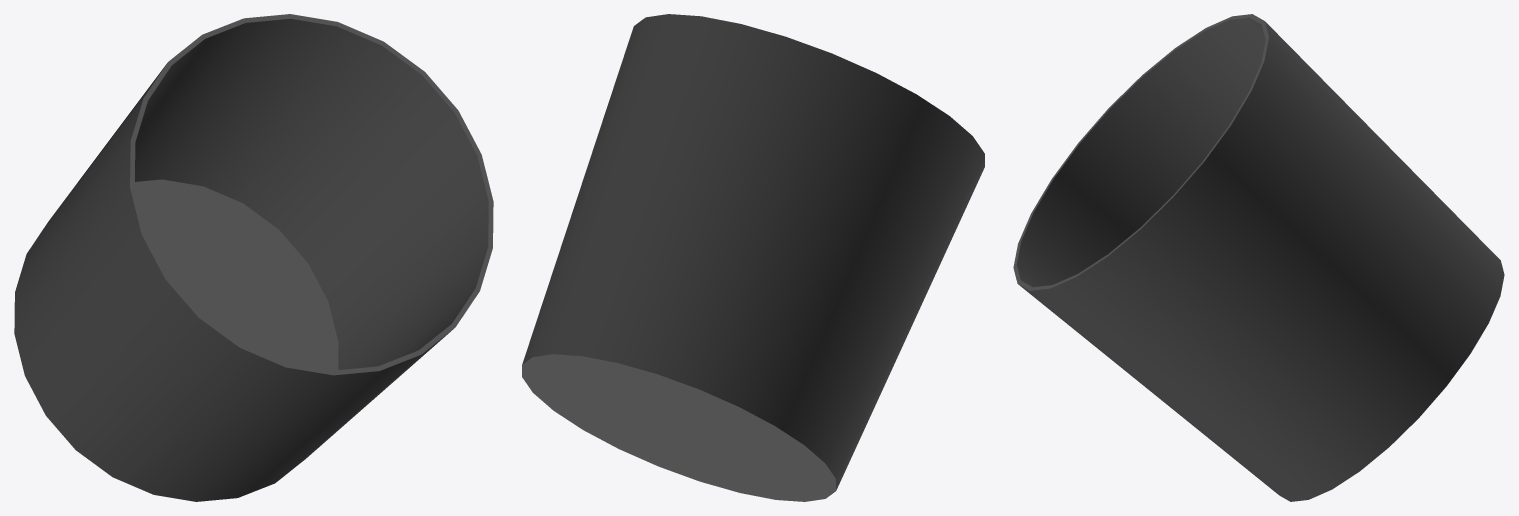
File: WtBkt_GrnRng_8in_5__188094_.obj
3 views of the same model, side by side, from view 1: azimuth 30°, elevation 25°; view 2: azimuth 150°, elevation 25°; view 3: azimuth 270°, elevation 25° (orthographic). The views are drawn at different scales.
Visible parts, largest first — view 1: WtBkt_GrnRng_8in_5__188094__temp_WtBkt_GrnRng_8in_5__188094_.004; view 2: WtBkt_GrnRng_8in_5__188094__temp_WtBkt_GrnRng_8in_5__188094_.004; view 3: WtBkt_GrnRng_8in_5__188094__temp_WtBkt_GrnRng_8in_5__188094_.004.
Part boxes in pixels (x1=…): WtBkt_GrnRng_8in_5__188094__temp_WtBkt_GrnRng_8in_5__188094_.004: x1=14, y1=14, x2=493, y2=501; WtBkt_GrnRng_8in_5__188094__temp_WtBkt_GrnRng_8in_5__188094_.004: x1=522, y1=14, x2=984, y2=501; WtBkt_GrnRng_8in_5__188094__temp_WtBkt_GrnRng_8in_5__188094_.004: x1=1013, y1=14, x2=1504, y2=501.
Bounding box in the file's own units: 0.1206 × 0.1639 × 0.1639.
Materials: 1 (1 with a texture image).
